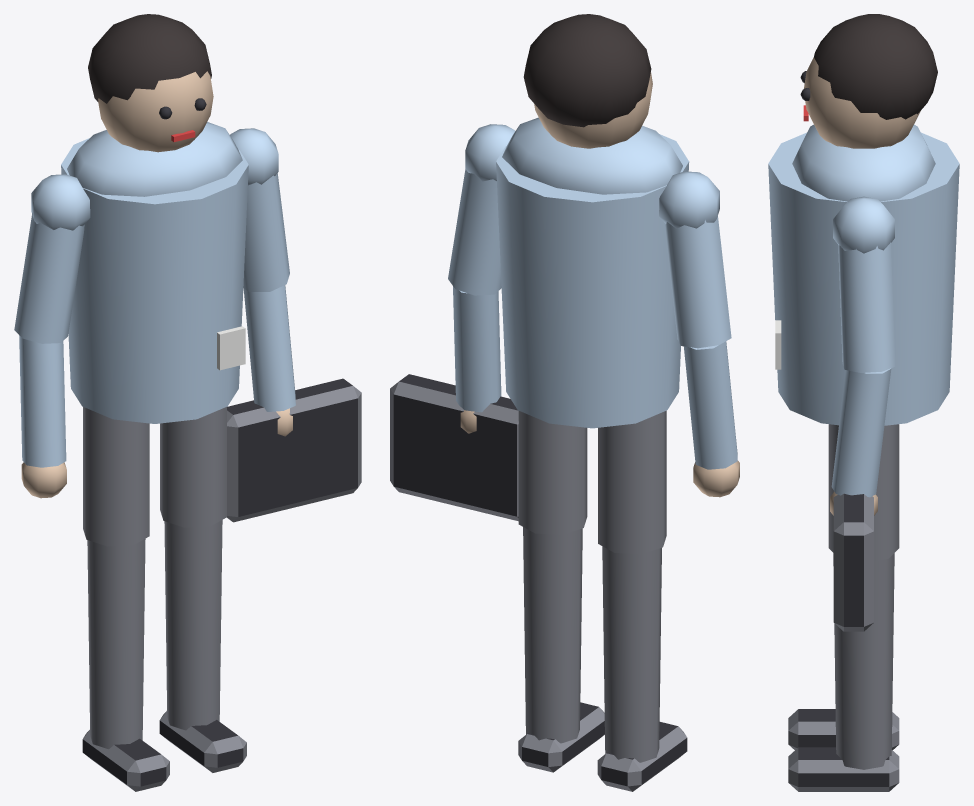
The model's file is SM_NPC_Office.fbx.
The picture shows the model from 3 angles, left to right: view 1: azimuth 30°, elevation 25°; view 2: azimuth 150°, elevation 25°; view 3: azimuth 270°, elevation 25°; orthographic projection. The views are drawn at different scales.
Parts seen in each view (by area): view 1: SM_NPC_Office; view 2: SM_NPC_Office; view 3: SM_NPC_Office.
Boxes of the visible parts, x1=… form: SM_NPC_Office: x1=14, y1=14, x2=361, y2=791; SM_NPC_Office: x1=390, y1=14, x2=739, y2=791; SM_NPC_Office: x1=768, y1=14, x2=959, y2=791.
Size of the model in its own units: 0.7776 by 1.63 by 0.38.
